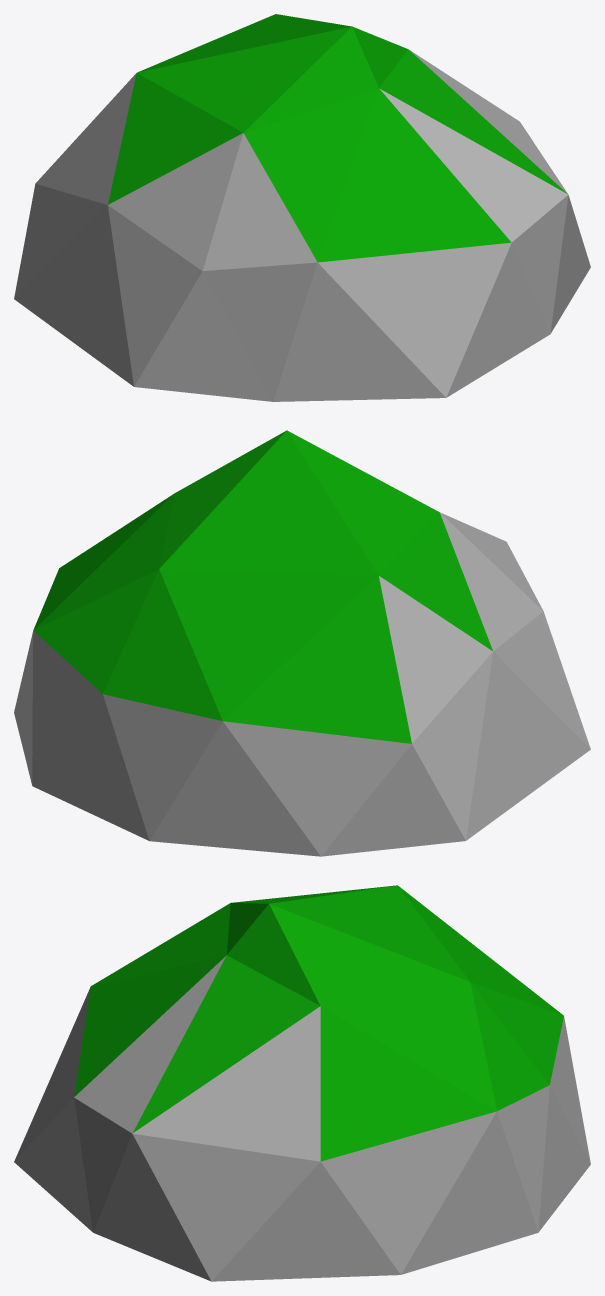
File: Rock2Moss.glb
3 views of the same model, one above another, from view 1: azimuth 30°, elevation 25°; view 2: azimuth 150°, elevation 25°; view 3: azimuth 270°, elevation 25° (orthographic). The views are drawn at different scales.
Parts seen in each view (by area): view 1: rock_b_with_moss; view 2: rock_b_with_moss; view 3: rock_b_with_moss.
Boxes of the visible parts, x1,y1,x2,y2 form: rock_b_with_moss: [14, 14, 590, 401]; rock_b_with_moss: [14, 430, 590, 856]; rock_b_with_moss: [14, 885, 590, 1281].
Size of the model in its own units: 1.97 by 1.1 by 2.1.
